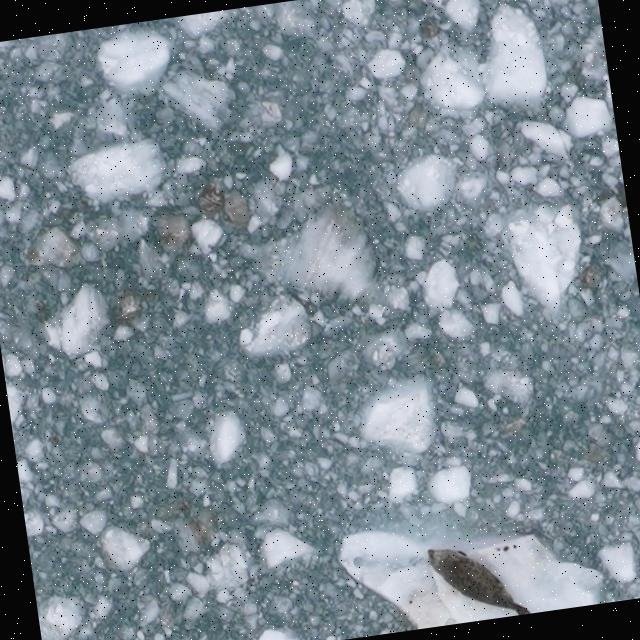seal: (421, 533, 532, 627)
